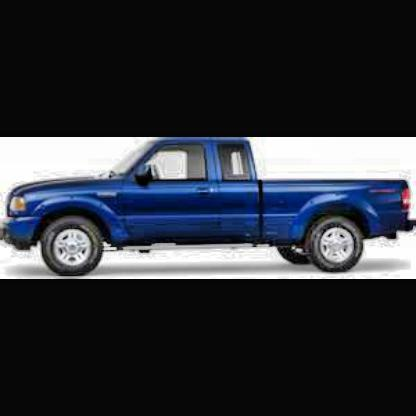Ford Ranger SuperCab 2011: (2, 139, 416, 280)
